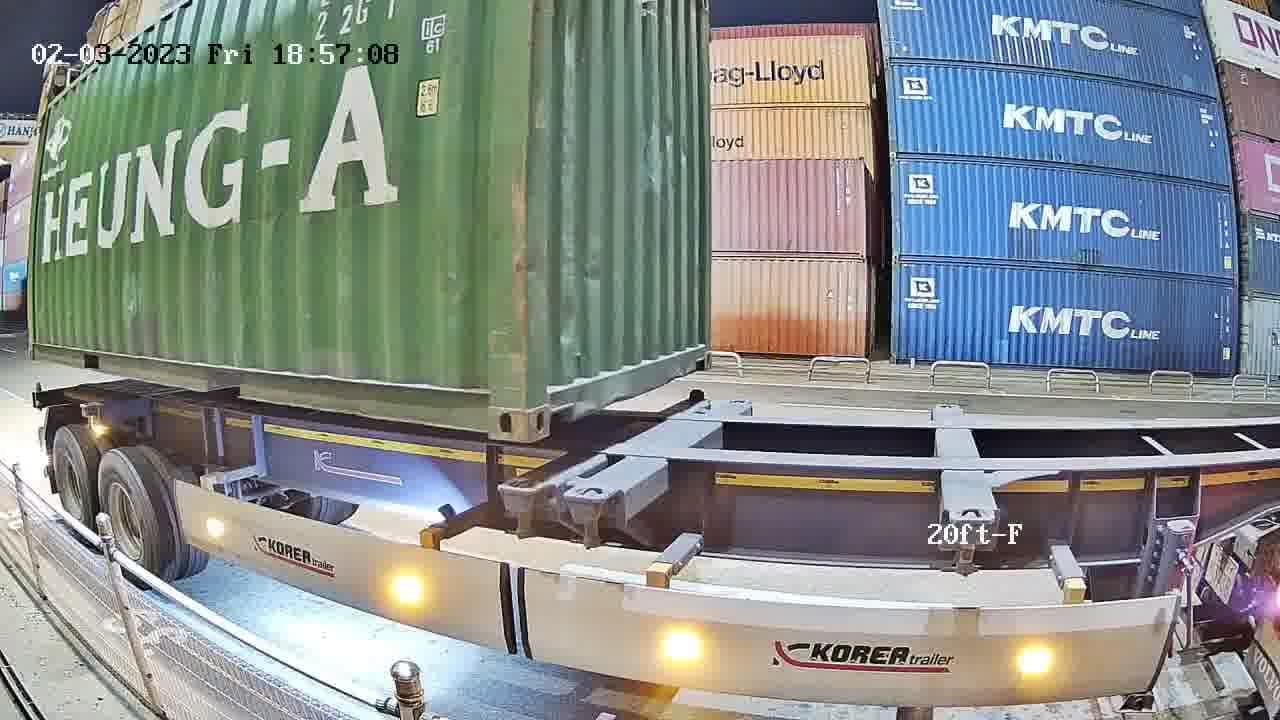Chassis: (497, 399, 710, 494), (564, 399, 752, 503)
Cone: (570, 485, 622, 552), (501, 475, 549, 545), (685, 387, 707, 406)
Hole_L: (524, 358, 581, 444)
Hole_R: (450, 370, 525, 447), (690, 332, 713, 371)
Tire: (99, 450, 156, 581), (54, 429, 96, 531)
